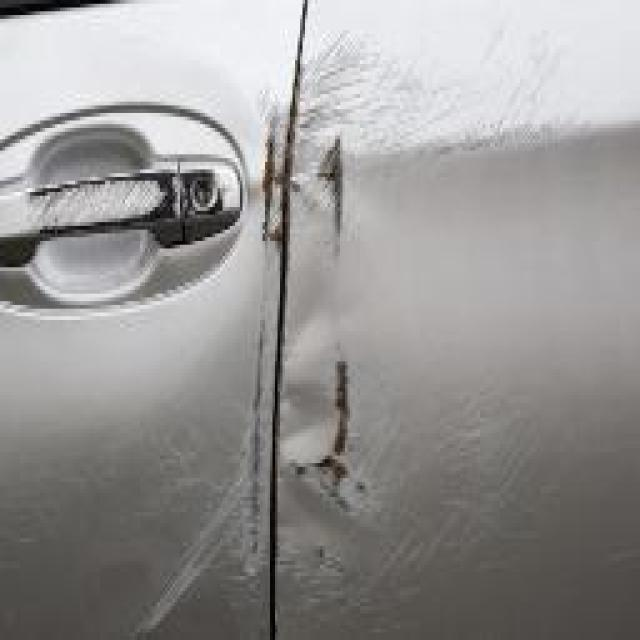Door: (288, 19, 582, 640), (22, 68, 270, 640)
